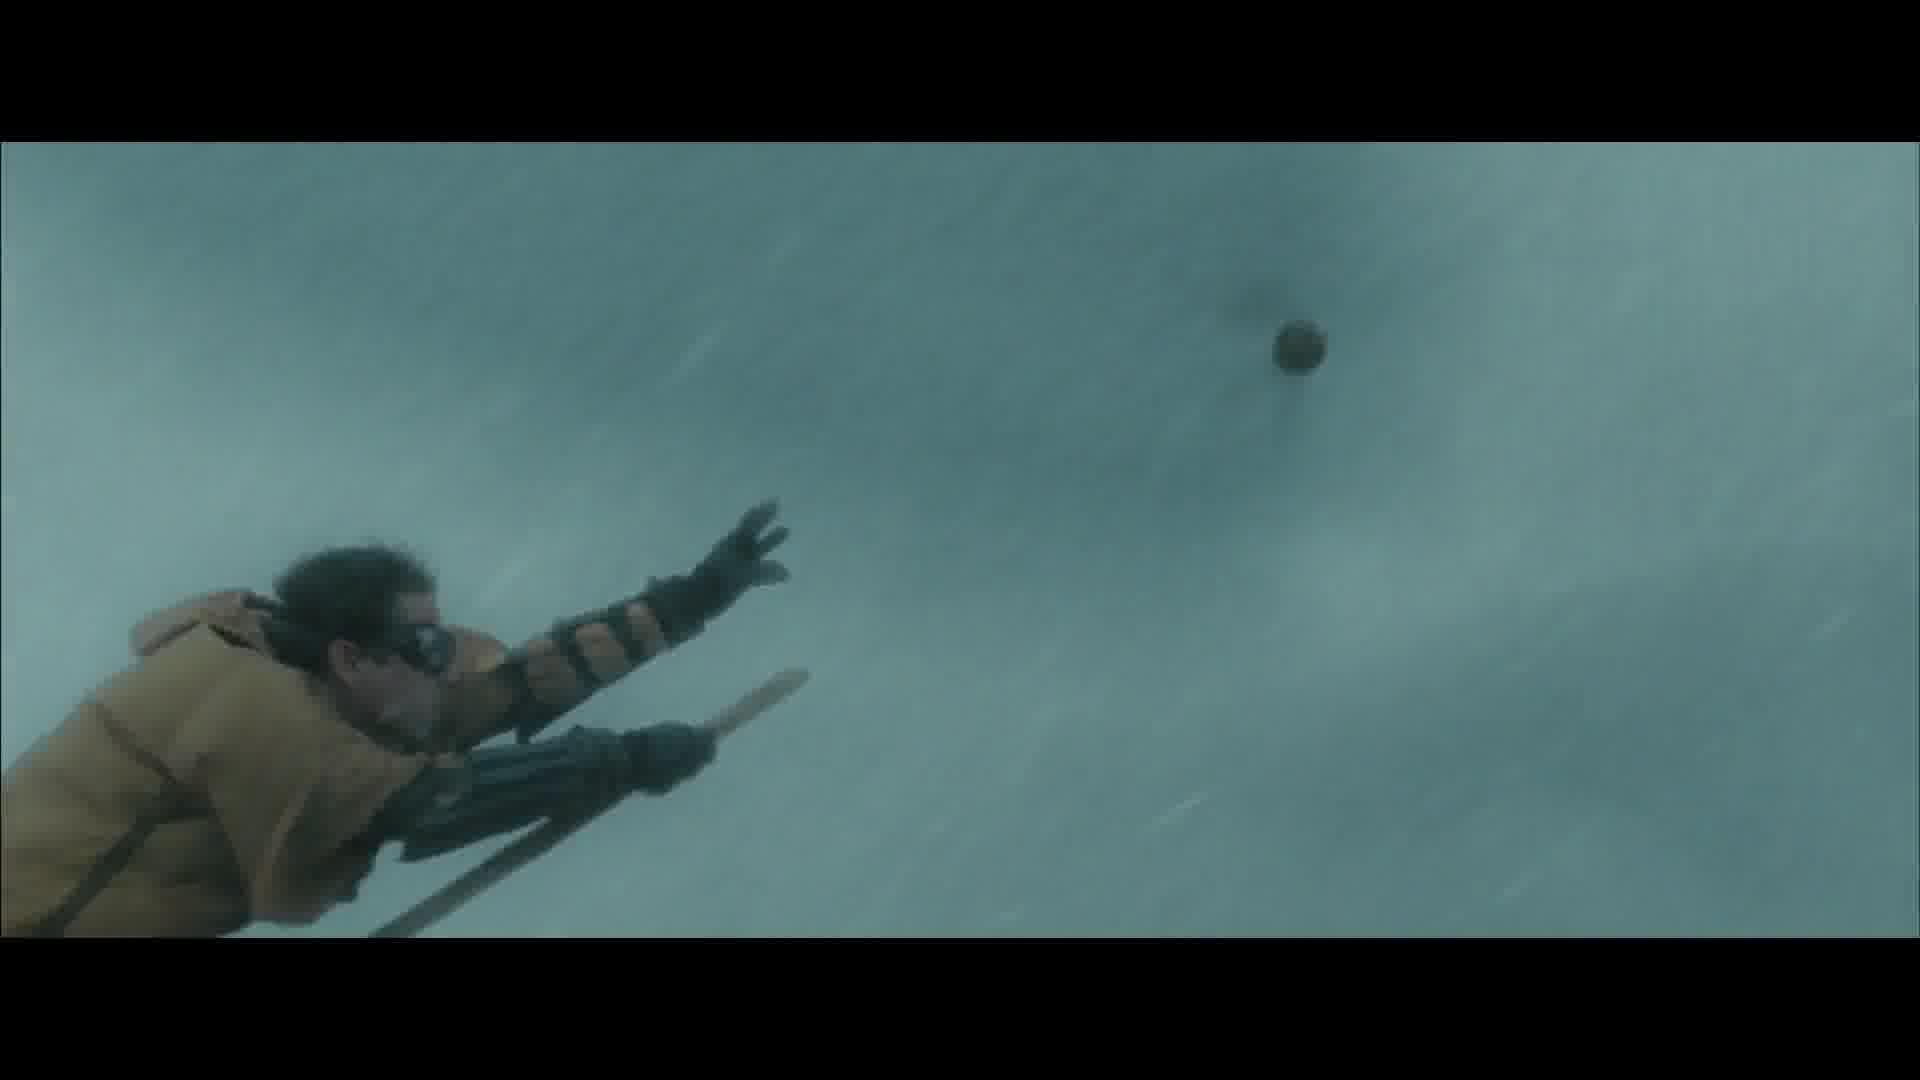snitch: (1262, 314, 1328, 378)
